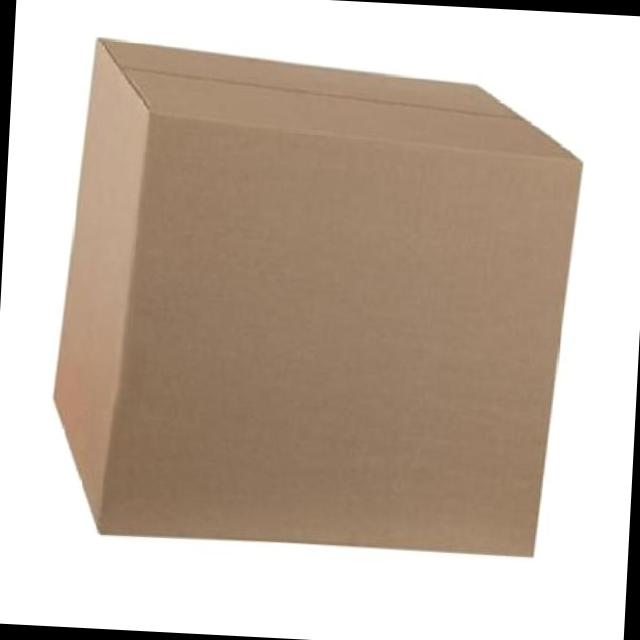box: (54, 35, 582, 558)
